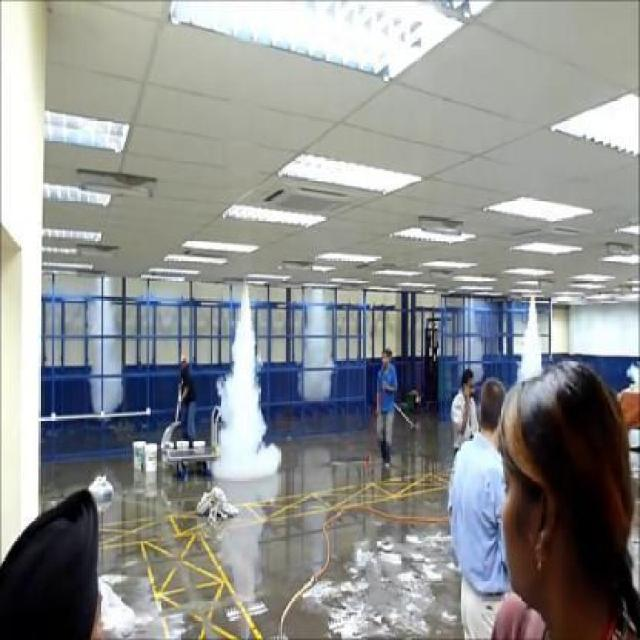fire: (213, 290, 282, 487), (514, 307, 544, 384)
